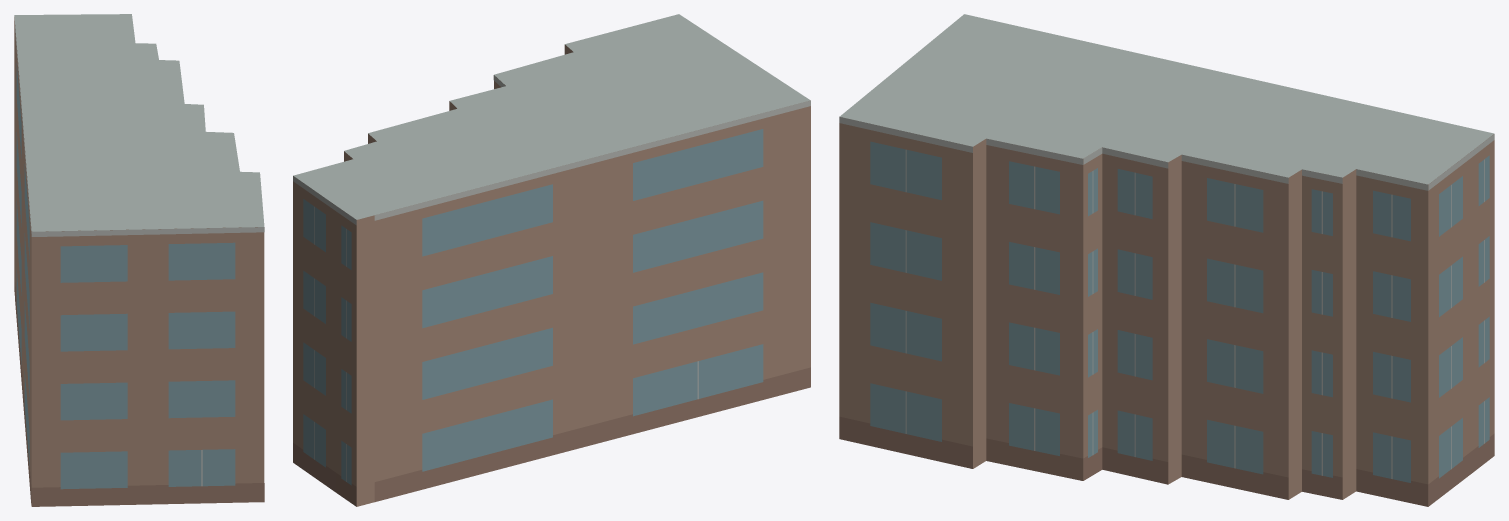
Rendered from survey-upis-32730041.glb.
The picture shows the model from 3 angles, left to right: view 1: azimuth 30°, elevation 25°; view 2: azimuth 150°, elevation 25°; view 3: azimuth 270°, elevation 25°; orthographic projection. The views are drawn at different scales.
Parts seen in each view (by area): view 1: survey-upis-32730041.tmp; view 2: survey-upis-32730041.tmp; view 3: survey-upis-32730041.tmp.
Part boxes in pixels (box(x1,y1,x2,y2)): survey-upis-32730041.tmp: box(14, 14, 264, 506); survey-upis-32730041.tmp: box(293, 14, 810, 506); survey-upis-32730041.tmp: box(839, 14, 1494, 506).
Size of the model in its own units: 14.14 by 12.45 by 22.94.
